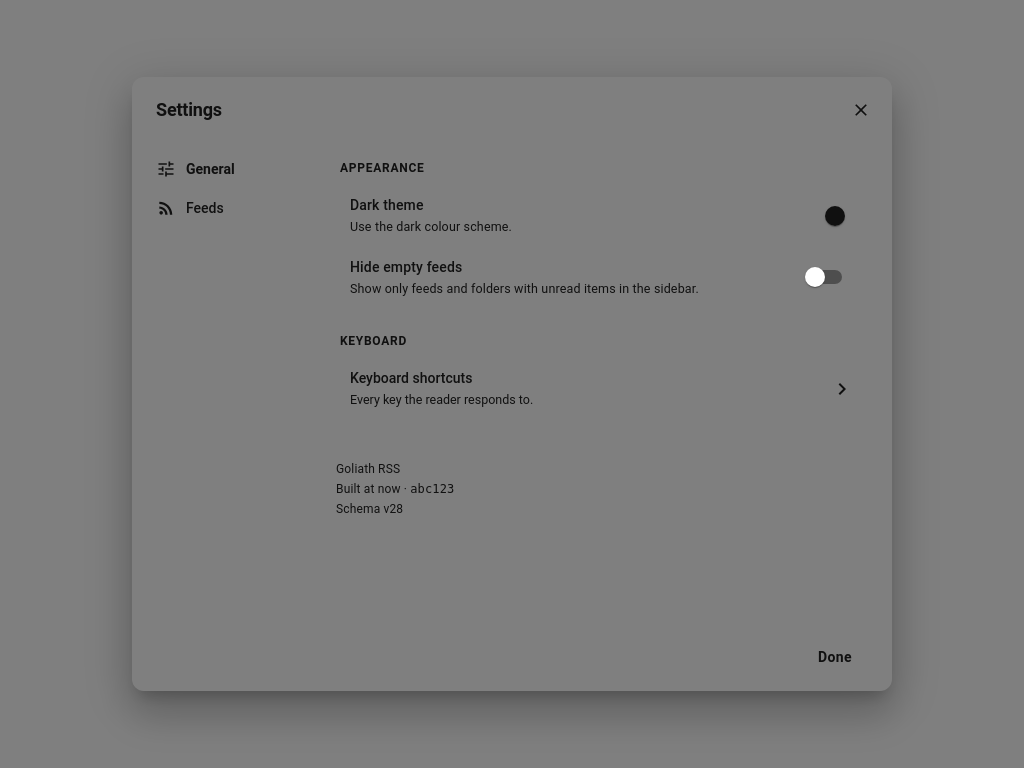
Test: SettingsModal folders › shows a folder that holds no feeds
Click the button "Feeds". click: (222, 208)
box: [144,190,300,227]
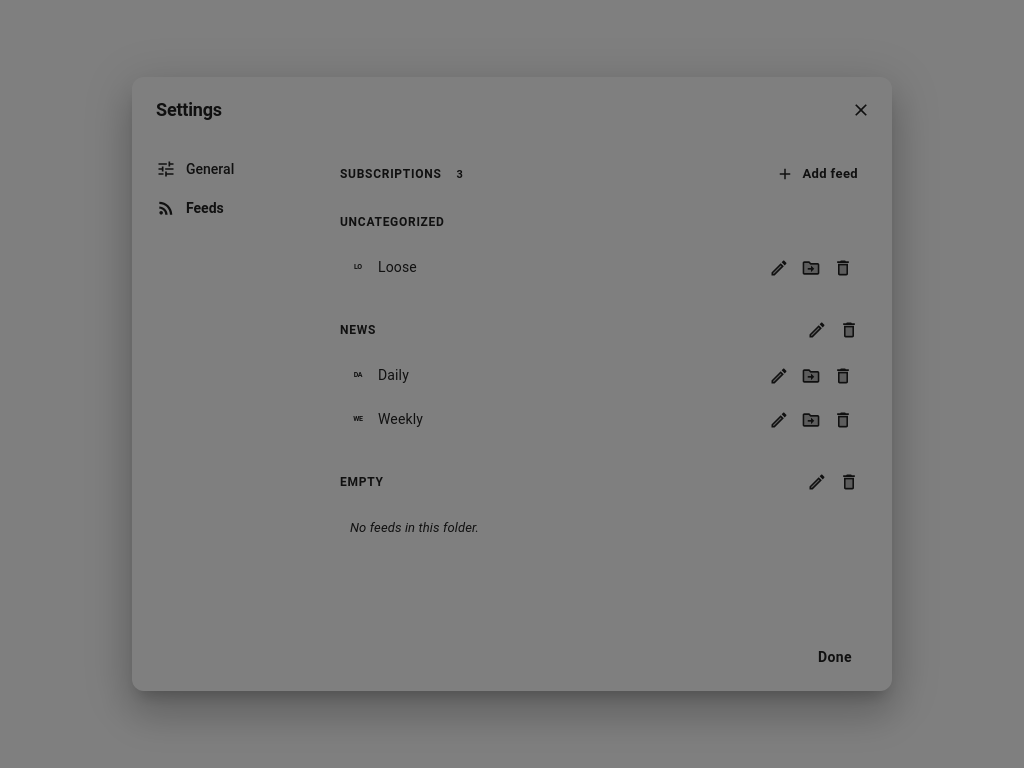
Check: the text "Empty" is shown, box [340,474,384,488]
Check: the text "No feeds in this folder." is shown, box [350,518,479,537]
